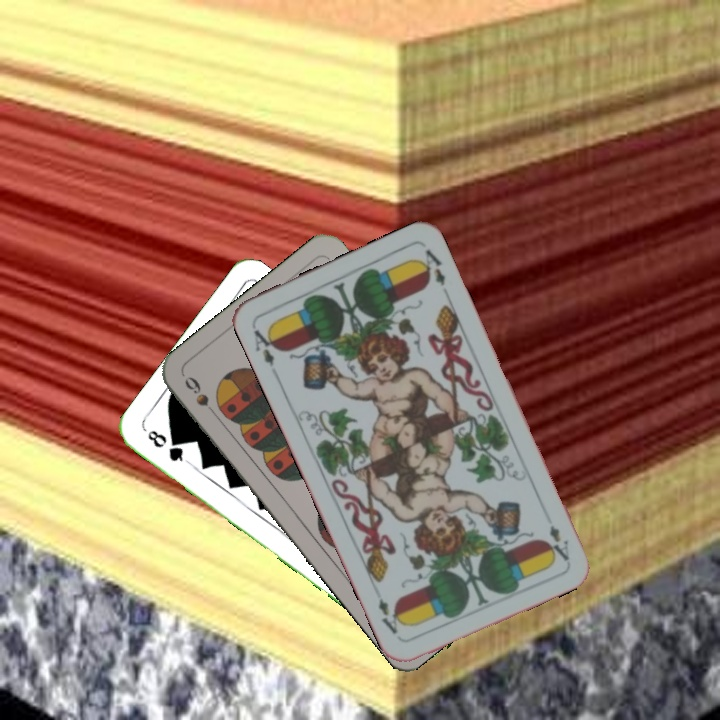EA: (249, 322, 282, 371), (543, 521, 572, 564)
G8: (143, 425, 192, 466)
S9: (180, 372, 226, 422)
